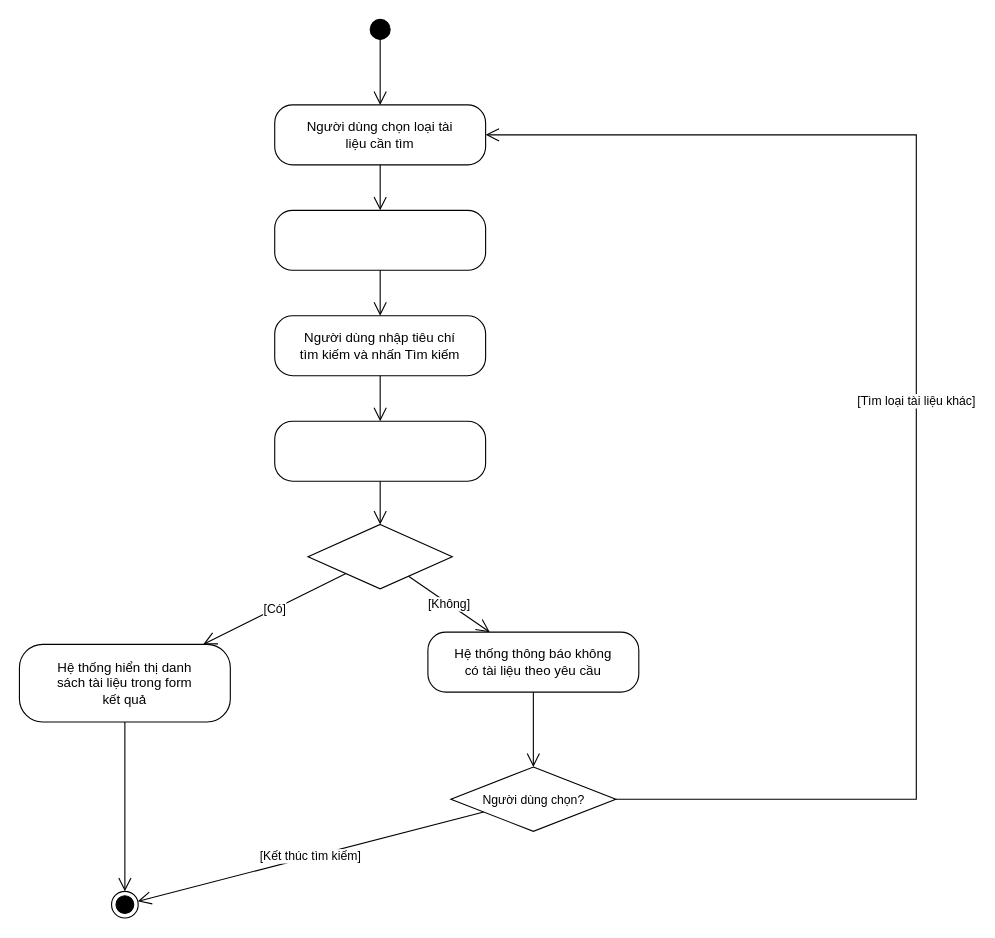
The diagram is 995 pixels wide and 938 high, and some of its shapes have lost their labels. Here are the shapes that lost their labels. From the top down, the centre of each, then its label:
point (380, 239): Hệ thống hiển thị form nhập thông tin tìm kiếm
point (380, 450): Hệ thống truy vấn cơ sở dữ liệu
point (379, 556): Có kết quả?
